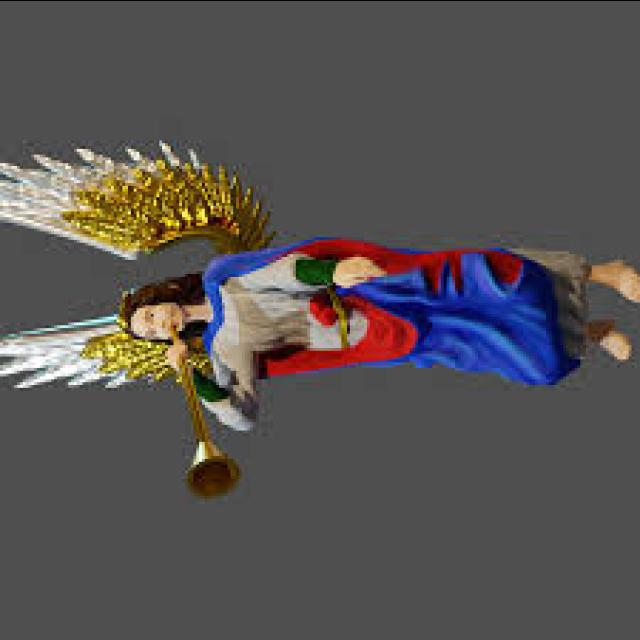angel: (0, 118, 640, 514)
